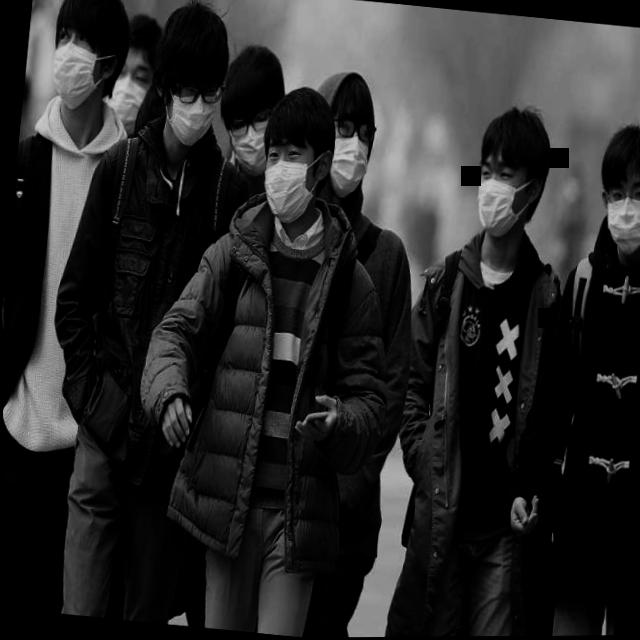Mask: (144, 1, 239, 155), (463, 105, 560, 251), (253, 82, 343, 231), (212, 34, 295, 187), (44, 0, 141, 125), (309, 65, 391, 209), (97, 10, 166, 141), (586, 117, 640, 258)
